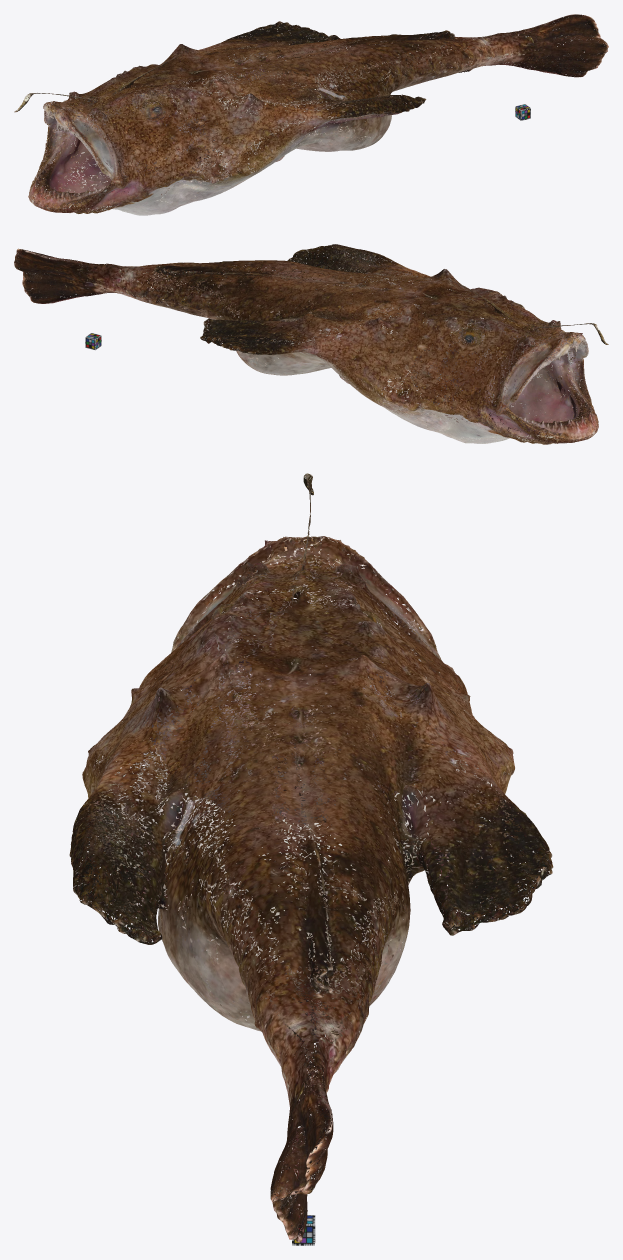
Rendered from scan_goosefish.glb.
The picture shows the model from 3 angles, top to bottom: view 1: azimuth 30°, elevation 25°; view 2: azimuth 150°, elevation 25°; view 3: azimuth 270°, elevation 25°; orthographic projection. The views are drawn at different scales.
Parts seen in each view (by area): view 1: Object_6, Object_14, Object_22; view 2: Object_6, Object_14, Object_22; view 3: Object_6, Object_14, Object_22.
Part boxes in pixels (x1=…): Object_6: x1=17, y1=15, x2=601, y2=213; Object_14: x1=20, y1=14, x2=608, y2=214; Object_22: x1=14, y1=14, x2=608, y2=215; Object_6: x1=16, y1=244, x2=604, y2=444; Object_14: x1=14, y1=245, x2=604, y2=444; Object_22: x1=14, y1=244, x2=608, y2=444; Object_6: x1=71, y1=474, x2=552, y2=1242; Object_14: x1=70, y1=473, x2=551, y2=1241; Object_22: x1=69, y1=473, x2=553, y2=1242.
Size of the model in its own units: 19.78 by 4.84 by 7.08.
4 materials, 4 textured.
